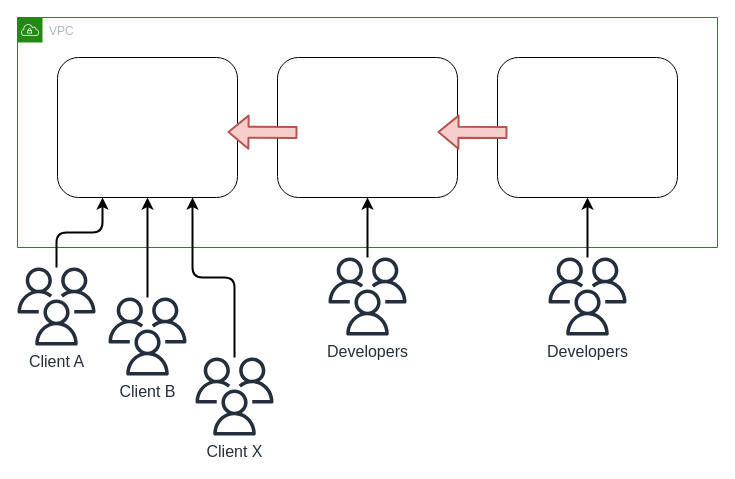
Image size: 735x479. Some labels were removed from this diagram. Each missing label, with the centre of its shape:
"Application (Internal)" belongs at pixel 587 127.
"Application (Production)" belongs at pixel 147 127.
"Application (Staging)" belongs at pixel 367 127.
